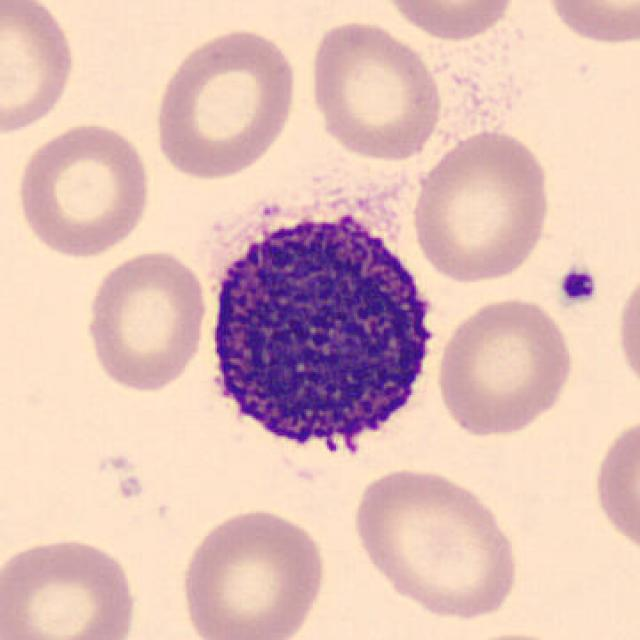Basophil: (194, 194, 453, 481)
Platelets: (555, 261, 601, 308)
RBC: (346, 462, 524, 622), (150, 23, 302, 182), (407, 125, 555, 286), (432, 291, 578, 441), (174, 502, 331, 640), (304, 16, 446, 164), (10, 116, 154, 261), (80, 247, 210, 395), (0, 530, 144, 640), (0, 2, 80, 138), (588, 409, 638, 561), (375, 0, 522, 42), (540, 0, 638, 48), (611, 261, 640, 404), (439, 627, 590, 640)
